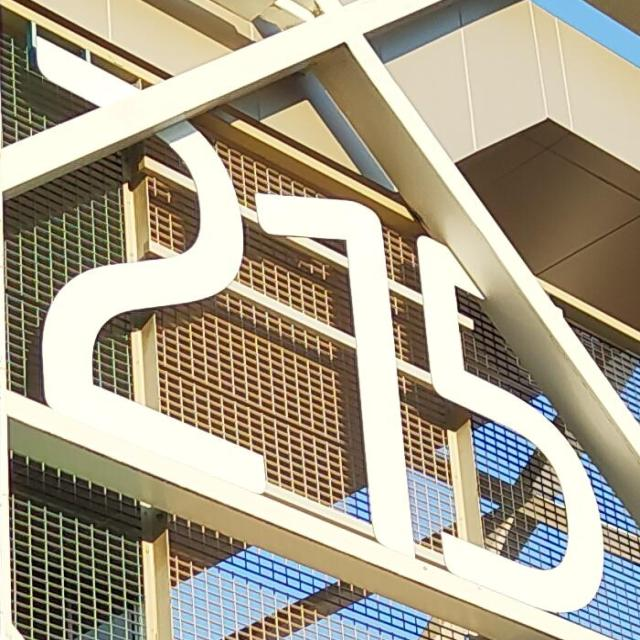character: (29, 32, 274, 506), (414, 230, 611, 622), (250, 184, 423, 564)
